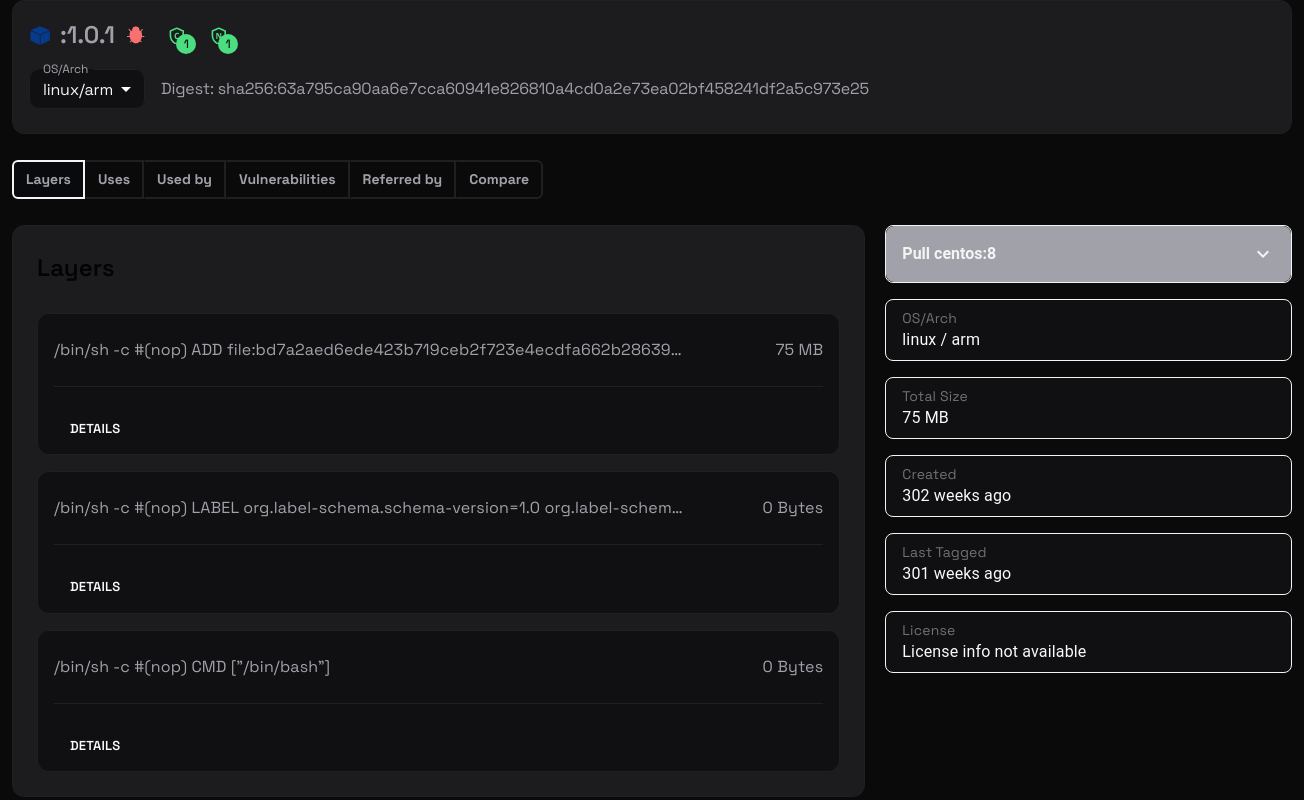
Tags details › renders signature icons
Hover over the 1st icon with test id "verified-icon": (177, 36) [164,24,190,48]
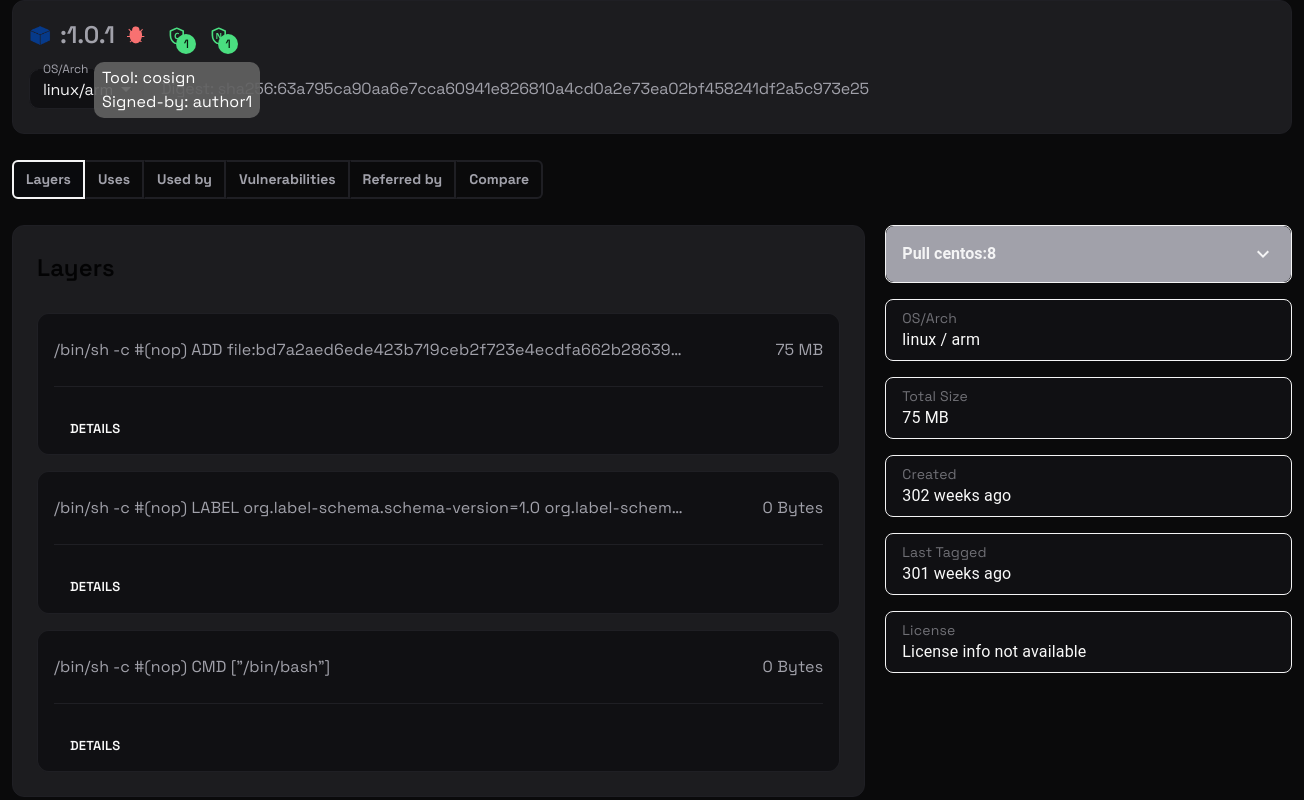
Expected: the text "Tool: cosign" is shown, [102,67,195,88]
Expected: the text "Signed-by: author1" is shown, [102,90,252,114]
Hover over the 3rd icon: (219, 36) [206,24,232,48]
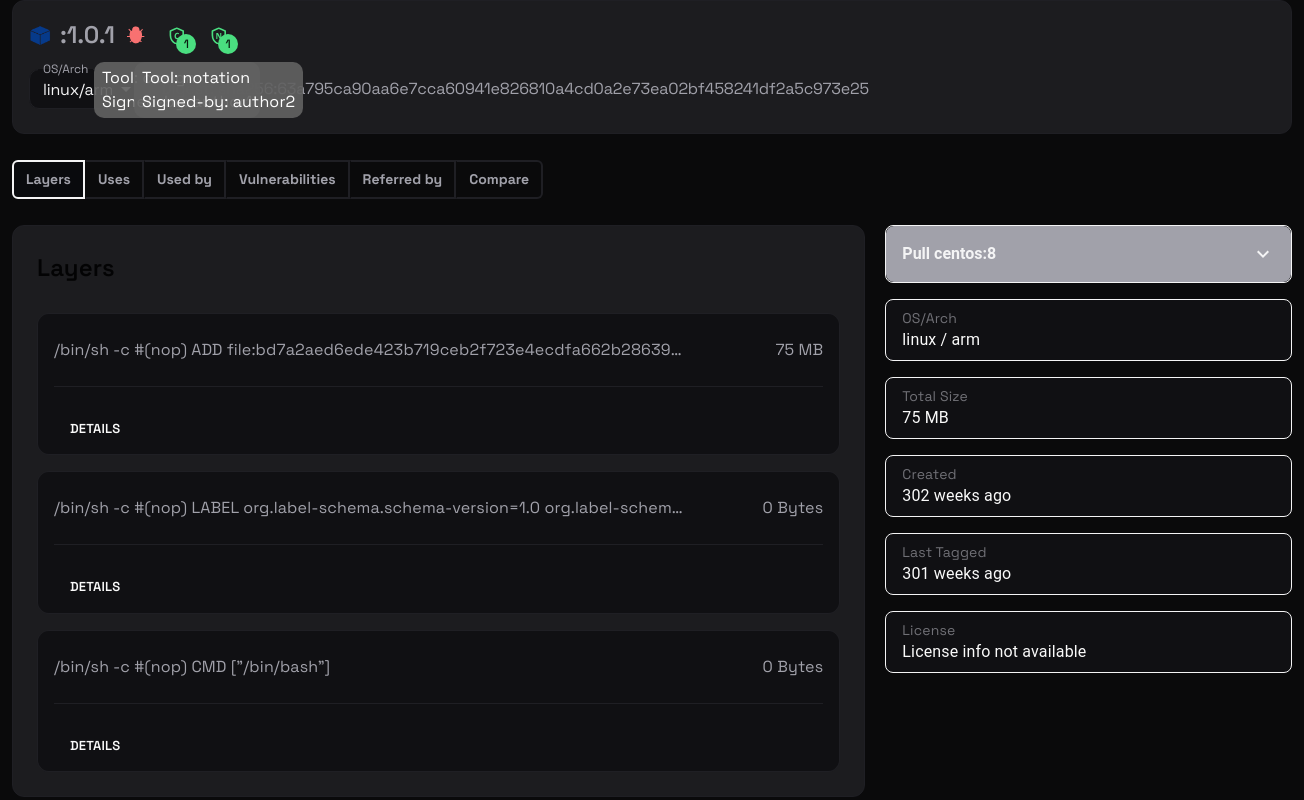
Expected: the text "Tool: notation" is shown, [142,67,250,88]
Expected: the text "Signed-by: author2" is shown, [142,90,295,114]
